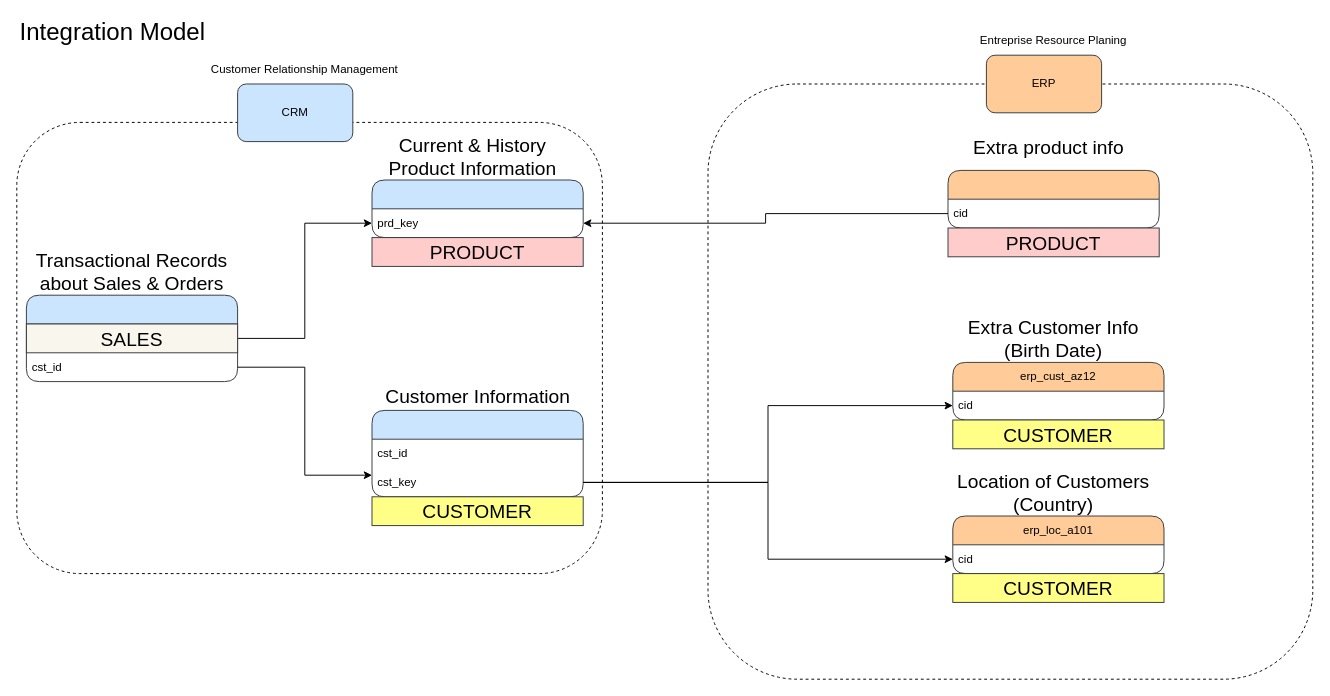
Image size: 1330x696. Some labels were removed from this diagram. Here are the shapes that lost their labels. From the top down, the box of each, then its label:
(371, 179, 583, 238): crm_prd_info
(947, 169, 1159, 228): erp_px_cat_g1v2
(25, 294, 238, 382): crm_sales_details
(371, 409, 583, 497): crm_cust_info
